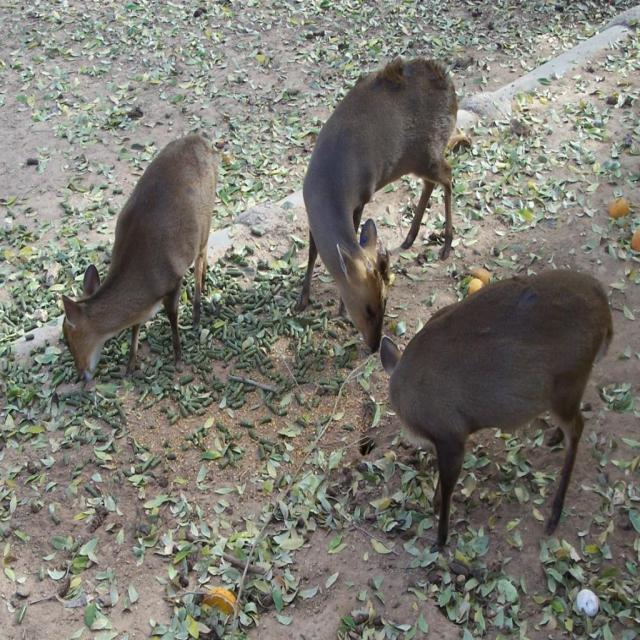Deer: (377, 264, 614, 556), (295, 55, 457, 353), (63, 134, 218, 383)
